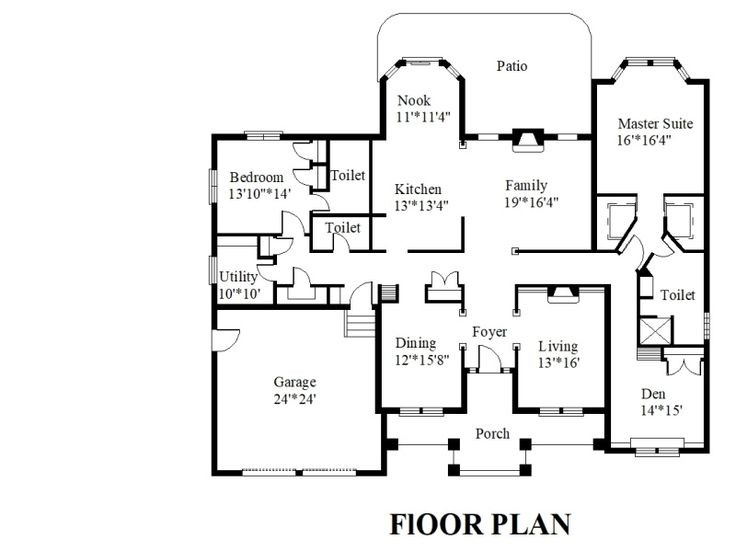door: (660, 347, 706, 384), (465, 341, 516, 372), (209, 325, 255, 358), (284, 140, 328, 164), (619, 235, 647, 272), (282, 164, 320, 190), (274, 209, 310, 236), (349, 273, 378, 305), (428, 265, 470, 287), (266, 230, 298, 257), (305, 194, 339, 218), (650, 238, 681, 264), (288, 263, 320, 287), (327, 227, 354, 255), (254, 259, 281, 286)
room: (209, 304, 384, 478), (214, 138, 372, 311), (373, 133, 597, 255), (596, 79, 709, 254), (613, 284, 705, 452), (519, 281, 610, 411), (379, 283, 464, 411), (462, 249, 515, 375), (641, 260, 707, 347)
wall: (697, 68, 718, 314), (597, 278, 621, 458), (584, 71, 603, 256), (701, 338, 722, 461), (207, 297, 348, 314), (204, 351, 222, 482), (282, 129, 394, 147), (374, 284, 387, 419), (364, 133, 378, 256), (513, 245, 619, 261), (371, 79, 395, 144), (454, 72, 475, 144), (511, 276, 618, 290), (509, 349, 527, 419), (378, 405, 395, 479), (497, 126, 558, 145), (305, 207, 387, 221), (634, 338, 712, 352), (204, 202, 224, 256), (457, 344, 472, 415), (323, 131, 338, 196), (356, 463, 393, 489), (209, 463, 245, 489), (204, 282, 223, 331), (205, 125, 246, 147), (506, 400, 542, 425), (401, 245, 470, 258), (452, 213, 471, 259), (633, 271, 644, 348), (680, 440, 715, 462), (657, 187, 716, 200), (584, 396, 615, 419), (306, 207, 320, 255), (422, 295, 467, 309), (207, 130, 222, 171), (587, 189, 641, 200), (443, 402, 473, 420), (456, 281, 472, 312), (667, 312, 679, 352), (513, 282, 527, 316), (309, 279, 346, 290), (660, 214, 673, 240), (270, 280, 280, 311), (422, 282, 435, 305), (392, 283, 404, 303)
window: (626, 52, 674, 75), (398, 401, 447, 423), (541, 400, 584, 424), (631, 440, 685, 459), (202, 166, 226, 206), (245, 127, 284, 146), (205, 254, 226, 286), (698, 310, 715, 340), (444, 61, 467, 82), (384, 63, 408, 83), (606, 63, 625, 83), (678, 65, 695, 83)
